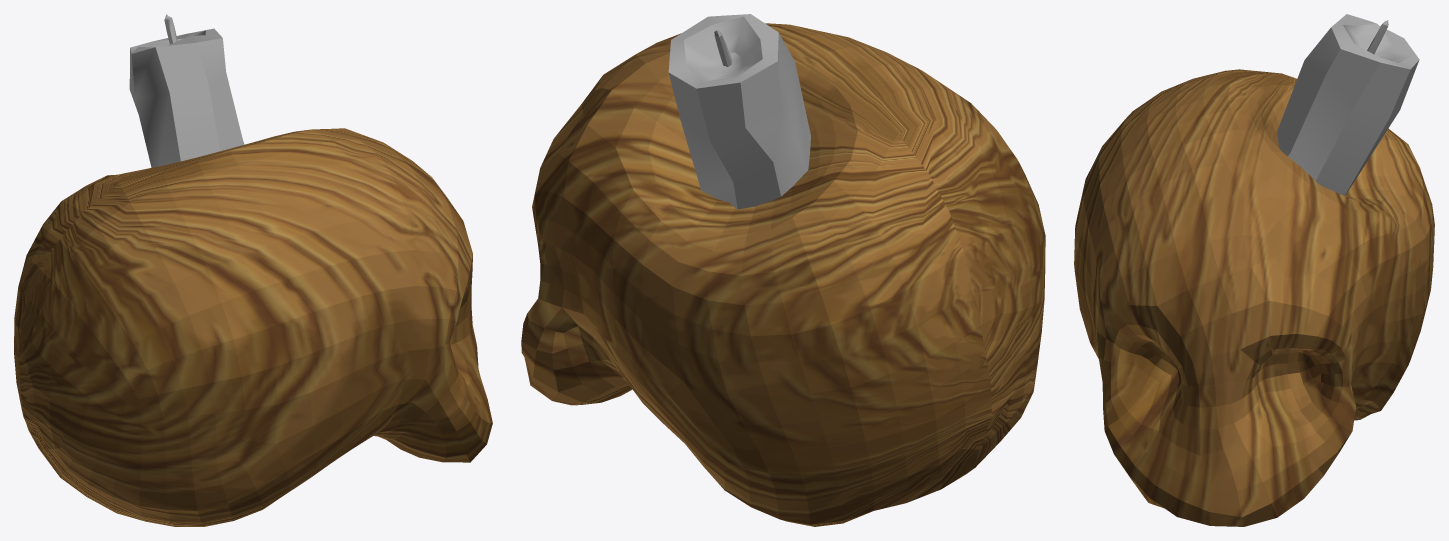
File: SkullWithCandle.fbx
The picture shows the model from 3 angles, left to right: view 1: azimuth 30°, elevation 25°; view 2: azimuth 150°, elevation 25°; view 3: azimuth 270°, elevation 25°; orthographic projection. The views are drawn at different scales.
Parts seen in each view (by area): view 1: polySurface14, candle; view 2: polySurface14, candle; view 3: polySurface14, candle.
Boxes of the visible parts, bbox=[...] form: polySurface14: bbox=[14, 128, 492, 526]; candle: bbox=[129, 28, 244, 167]; polySurface14: bbox=[521, 23, 1045, 526]; candle: bbox=[668, 14, 810, 209]; polySurface14: bbox=[1074, 69, 1434, 526]; candle: bbox=[1276, 14, 1419, 195].
Size of the model in its own units: 1.09 by 1.03 by 0.8098.
